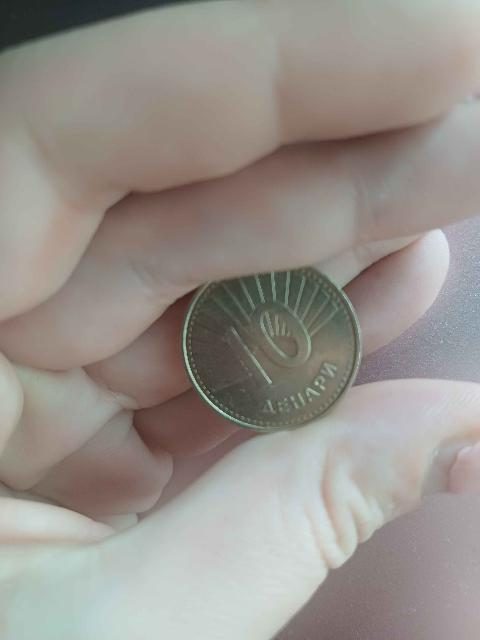coin: (183, 268, 361, 431)
